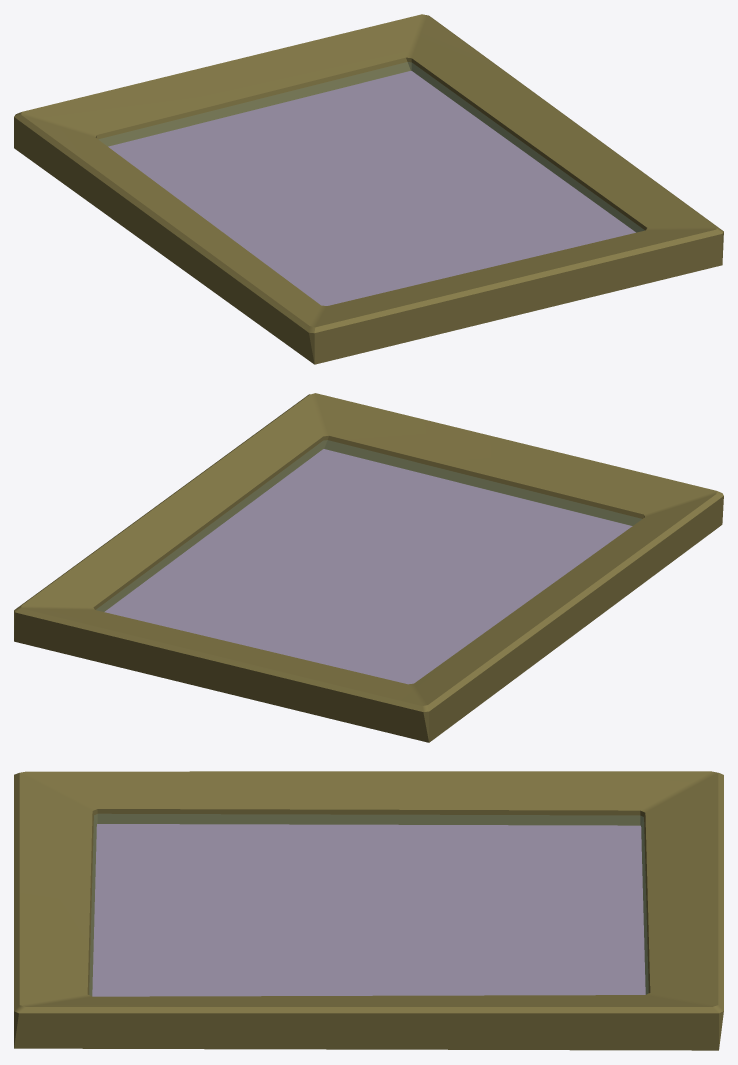
File: P_CuadroPalacio.fbx
3 renders of one model, top to bottom at view 1: azimuth 30°, elevation 25°; view 2: azimuth 150°, elevation 25°; view 3: azimuth 270°, elevation 25°, orthographic. The views are drawn at different scales.
Visible parts, largest first — view 1: Cuadro_LOD0; view 2: Cuadro_LOD0; view 3: Cuadro_LOD0.
Boxes of the visible parts, bbox=[...] form: Cuadro_LOD0: bbox=[14, 14, 723, 364]; Cuadro_LOD0: bbox=[14, 393, 723, 742]; Cuadro_LOD0: bbox=[14, 771, 723, 1050].
Size of what is drawn, in the model's own units: 1.87 by 0.1504 by 2.34.
